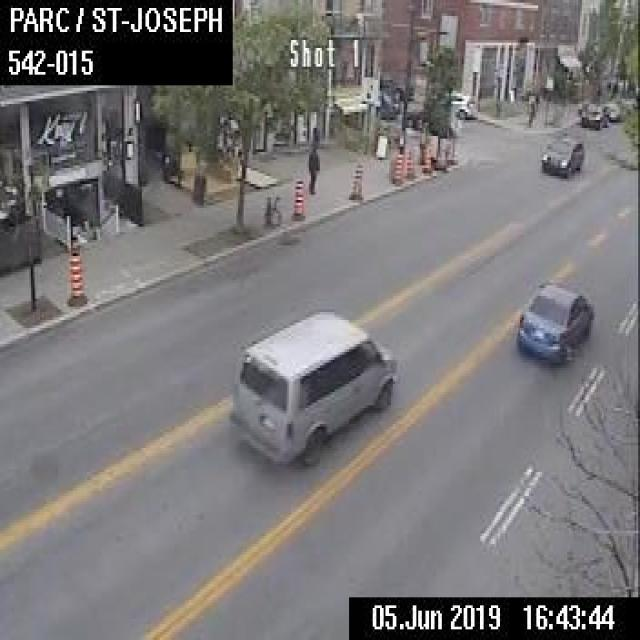construction: (66, 251, 86, 301), (286, 173, 304, 216), (346, 163, 364, 200), (389, 152, 402, 184), (420, 140, 431, 173), (404, 145, 414, 177)
pedestrian: (304, 138, 320, 194)
vehicle: (225, 301, 393, 464), (515, 280, 598, 363), (538, 128, 584, 179), (405, 107, 451, 136), (449, 85, 480, 123), (378, 70, 412, 97), (576, 102, 607, 128), (375, 88, 398, 117), (604, 100, 622, 119)
